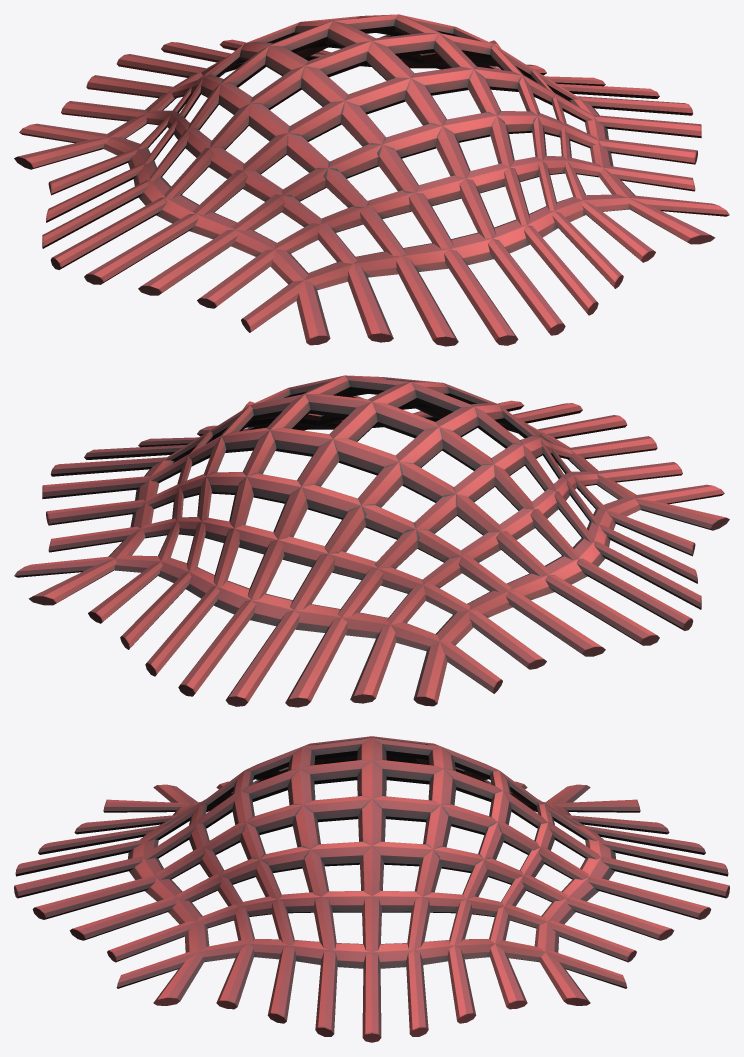
File: Ami_01.fbx
3 views of the same model, one above another, from view 1: azimuth 30°, elevation 25°; view 2: azimuth 150°, elevation 25°; view 3: azimuth 270°, elevation 25° (orthographic). The views are drawn at different scales.
Parts seen in each view (by area): view 1: ami_01:ami_01; view 2: ami_01:ami_01; view 3: ami_01:ami_01.
Boxes of the visible parts, x1,y1,x2,y2 form: ami_01:ami_01: [14, 14, 729, 346]; ami_01:ami_01: [14, 375, 729, 707]; ami_01:ami_01: [14, 736, 729, 1042].
Bounding box in the file's own units: 0.5958 × 0.1358 × 0.6317.
Materials: 1 (1 with a texture image).
